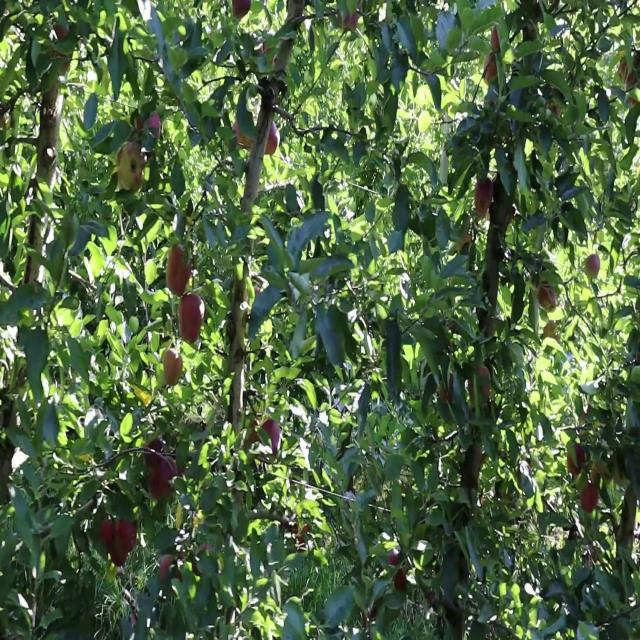apple: (116, 142, 145, 192), (168, 248, 193, 299), (148, 462, 179, 503), (180, 298, 204, 341), (116, 526, 139, 569), (232, 115, 256, 151), (476, 177, 495, 220), (164, 348, 184, 388), (136, 113, 163, 142), (116, 519, 139, 553), (160, 554, 184, 583), (472, 369, 492, 402), (580, 483, 600, 514), (264, 419, 281, 455), (620, 56, 640, 85), (340, 7, 361, 34), (568, 447, 586, 476), (100, 519, 116, 549), (268, 120, 280, 156), (232, 0, 252, 21), (484, 56, 498, 85), (540, 284, 556, 308), (112, 547, 128, 569), (248, 419, 260, 446), (56, 21, 70, 43), (544, 319, 557, 341), (588, 255, 600, 277), (148, 440, 164, 455), (396, 575, 408, 594), (460, 234, 472, 251), (492, 28, 500, 52), (388, 554, 400, 569)
